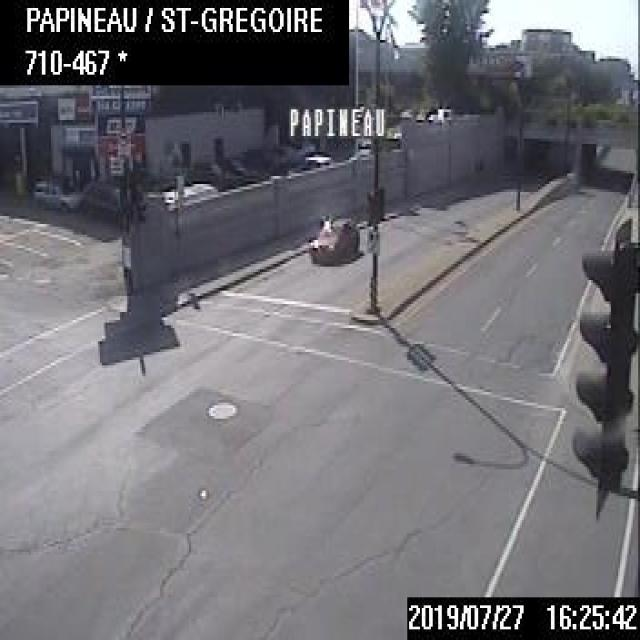vehicle: (308, 215, 359, 262), (30, 172, 81, 210)
